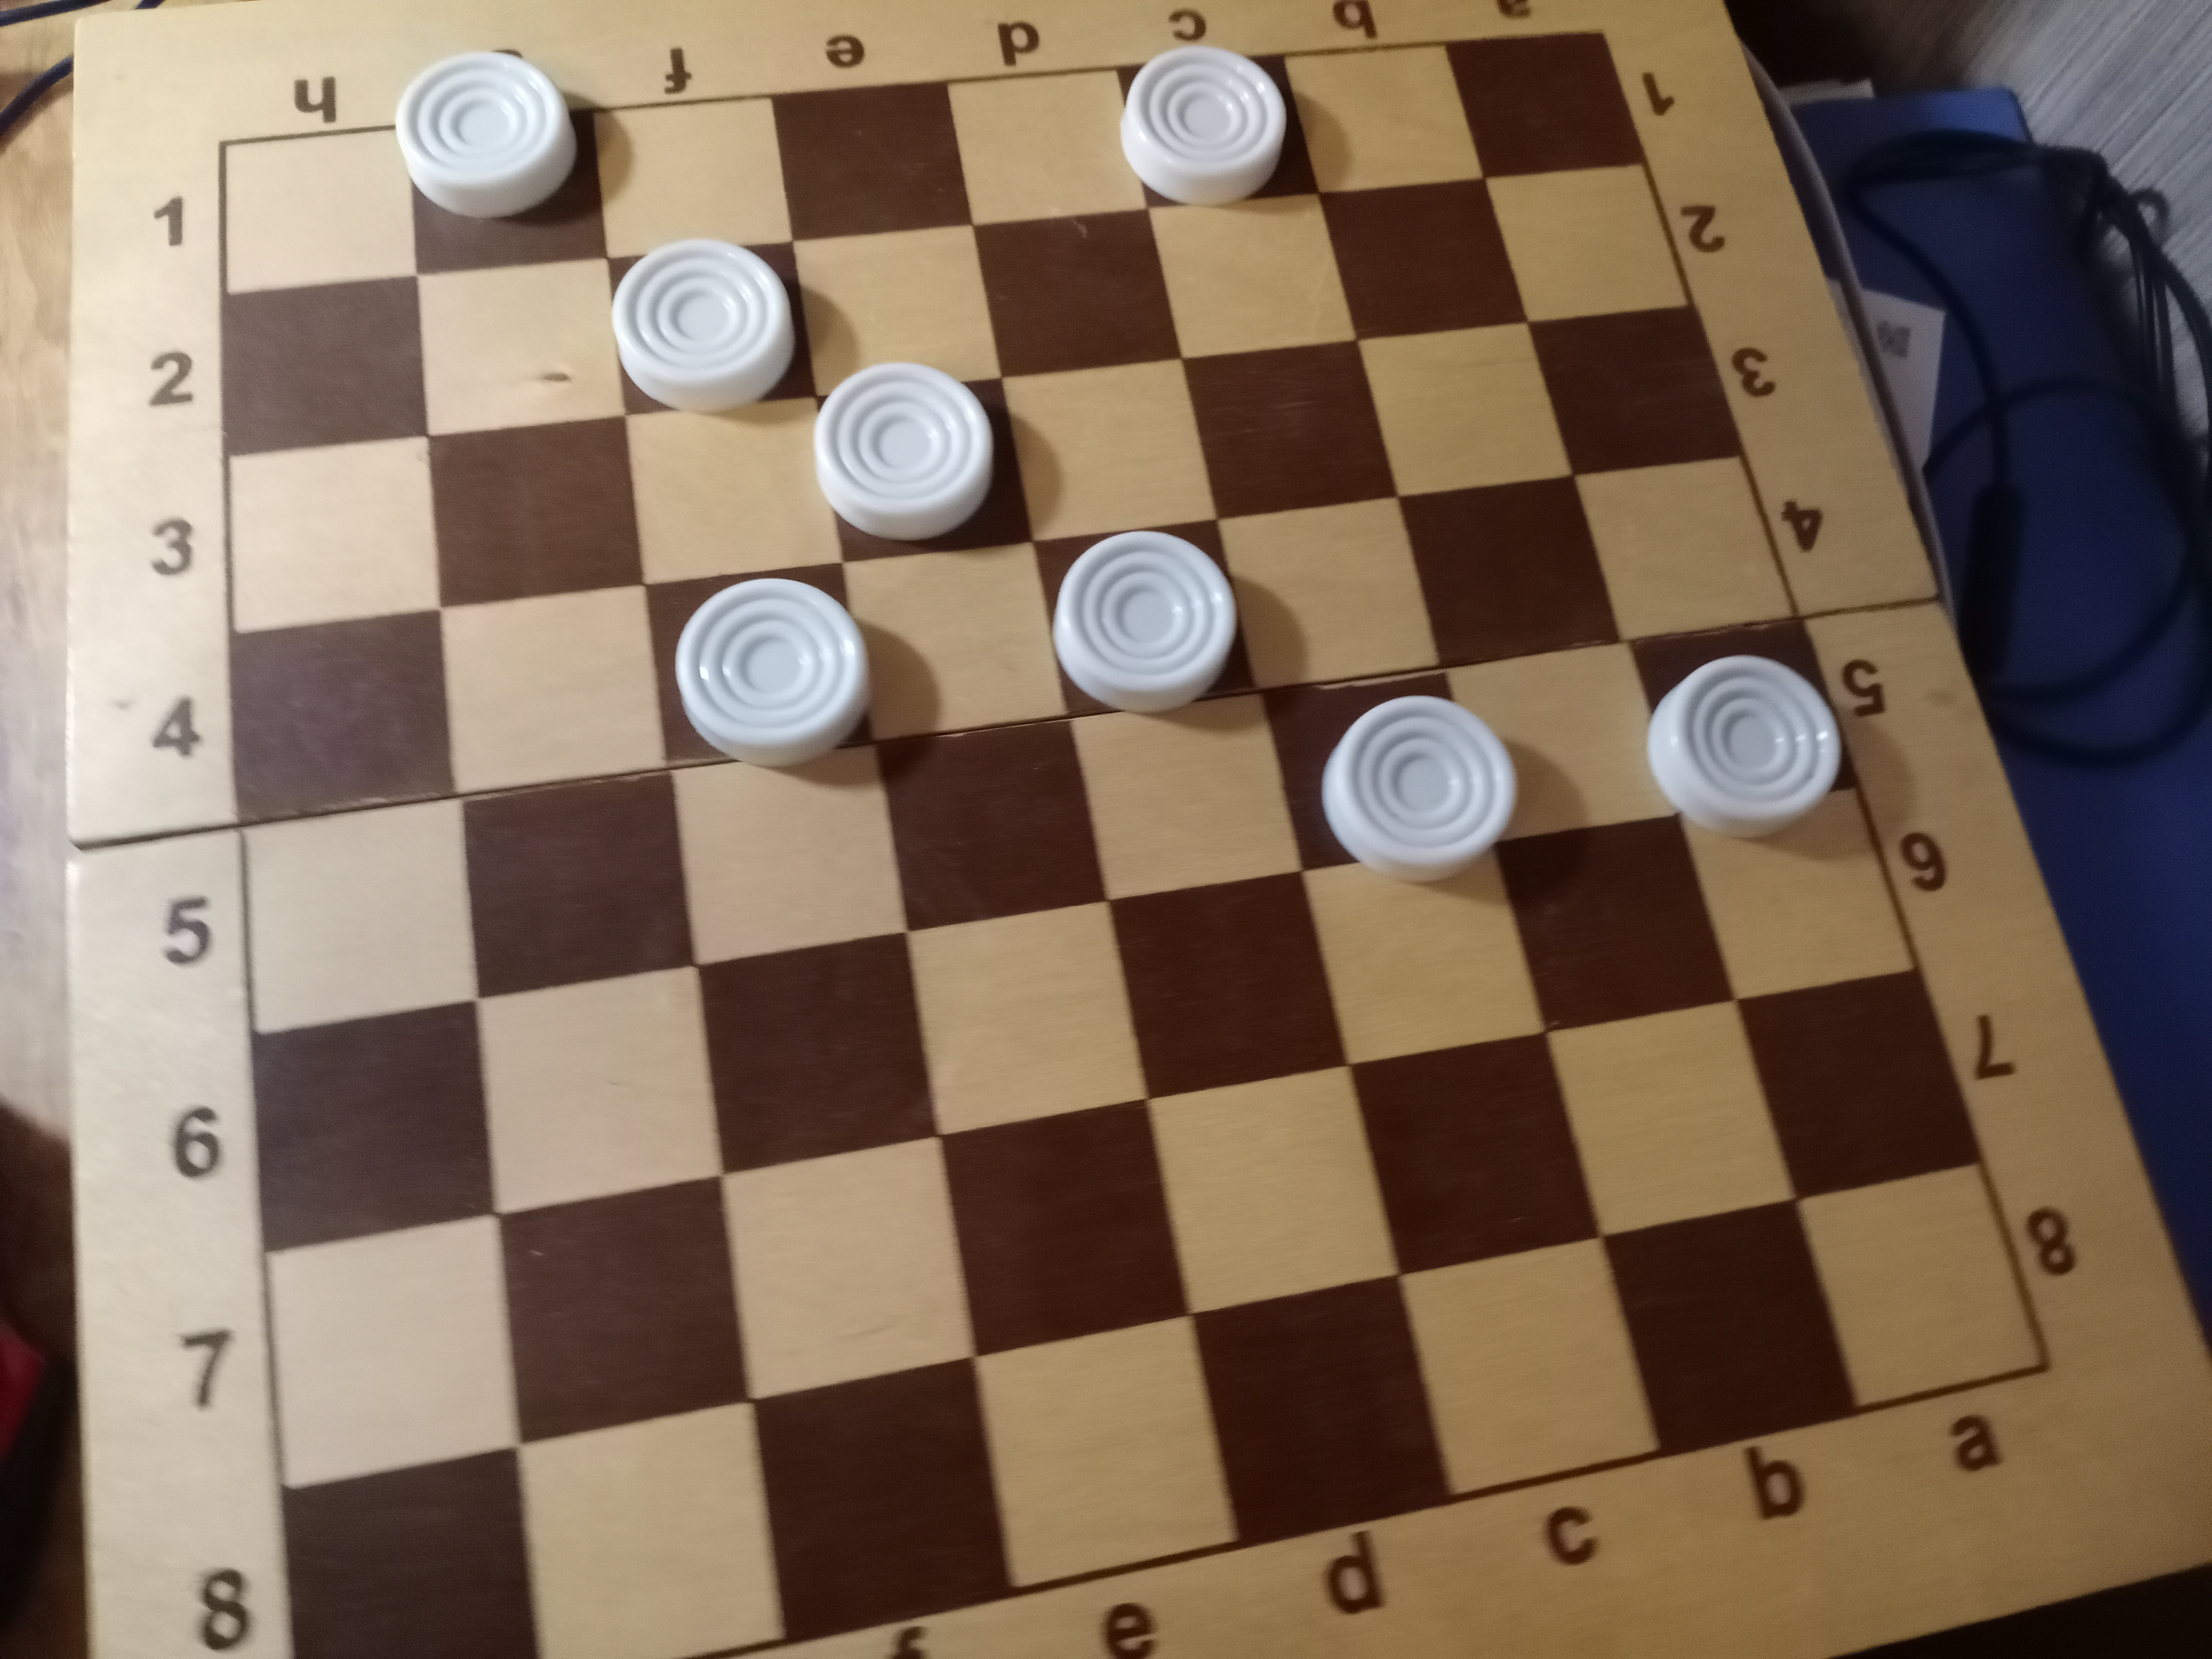White_Draught: (1259, 671, 1519, 885), (1630, 620, 1857, 838), (395, 51, 608, 275), (644, 565, 876, 770), (1035, 521, 1256, 718), (813, 364, 1033, 561), (606, 239, 815, 418), (1120, 45, 1318, 209)
